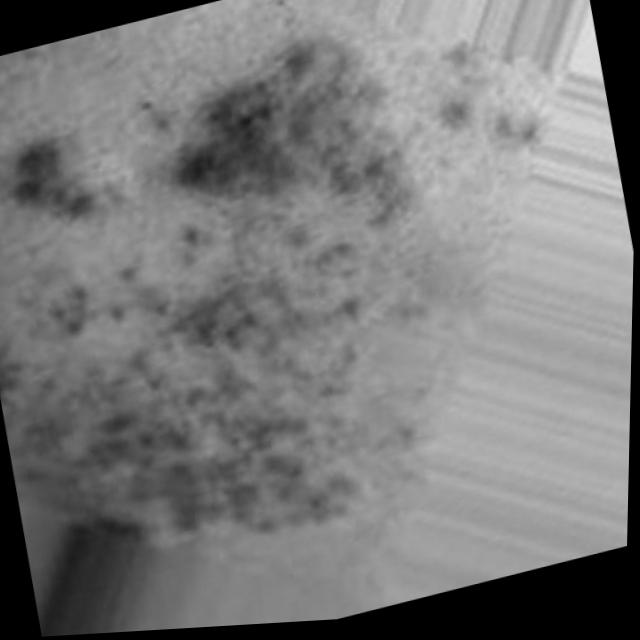Shingles: (0, 242, 374, 589), (176, 12, 435, 236), (11, 134, 121, 240)
